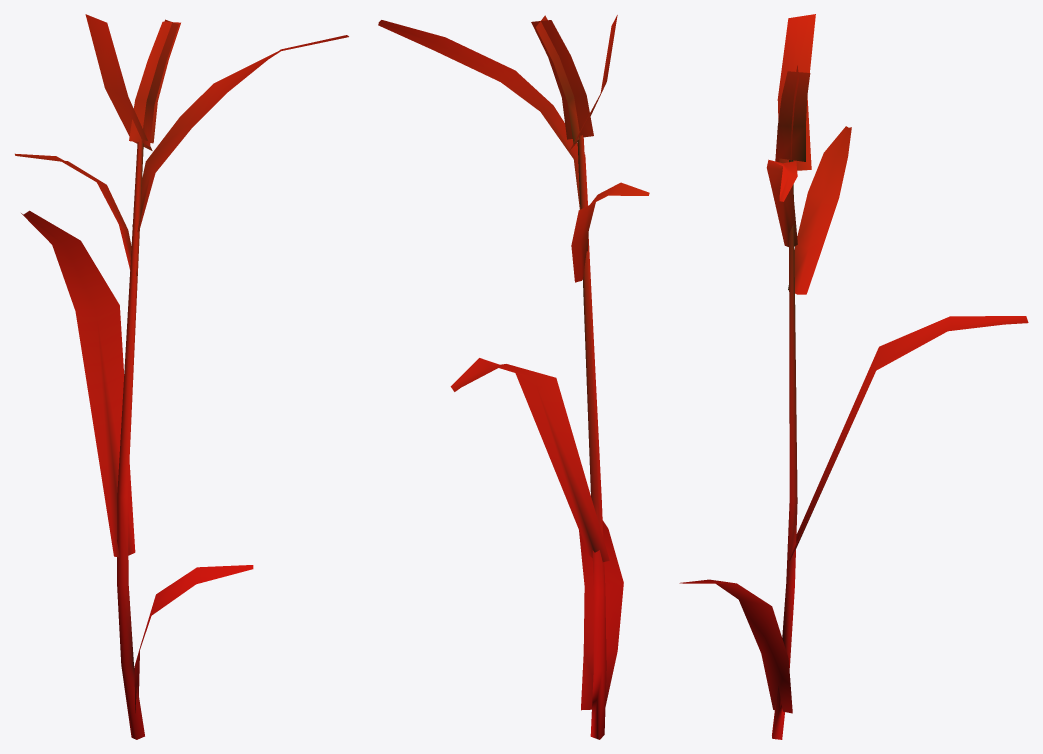
Rendered from SM_WheatPlants_5.fbx.
3 renders of one model, left to right at view 1: azimuth 30°, elevation 25°; view 2: azimuth 150°, elevation 25°; view 3: azimuth 270°, elevation 25°, orthographic. The views are drawn at different scales.
Parts seen in each view (by area): view 1: SM_WheatPlants_5; view 2: SM_WheatPlants_5; view 3: SM_WheatPlants_5.
Part boxes in pixels (x1,y1,x2,y2): SM_WheatPlants_5: (15, 14, 348, 739); SM_WheatPlants_5: (378, 15, 649, 739); SM_WheatPlants_5: (679, 14, 1028, 739).
Bounding box in the file's own units: 0.459 × 1.05 × 0.4716.
